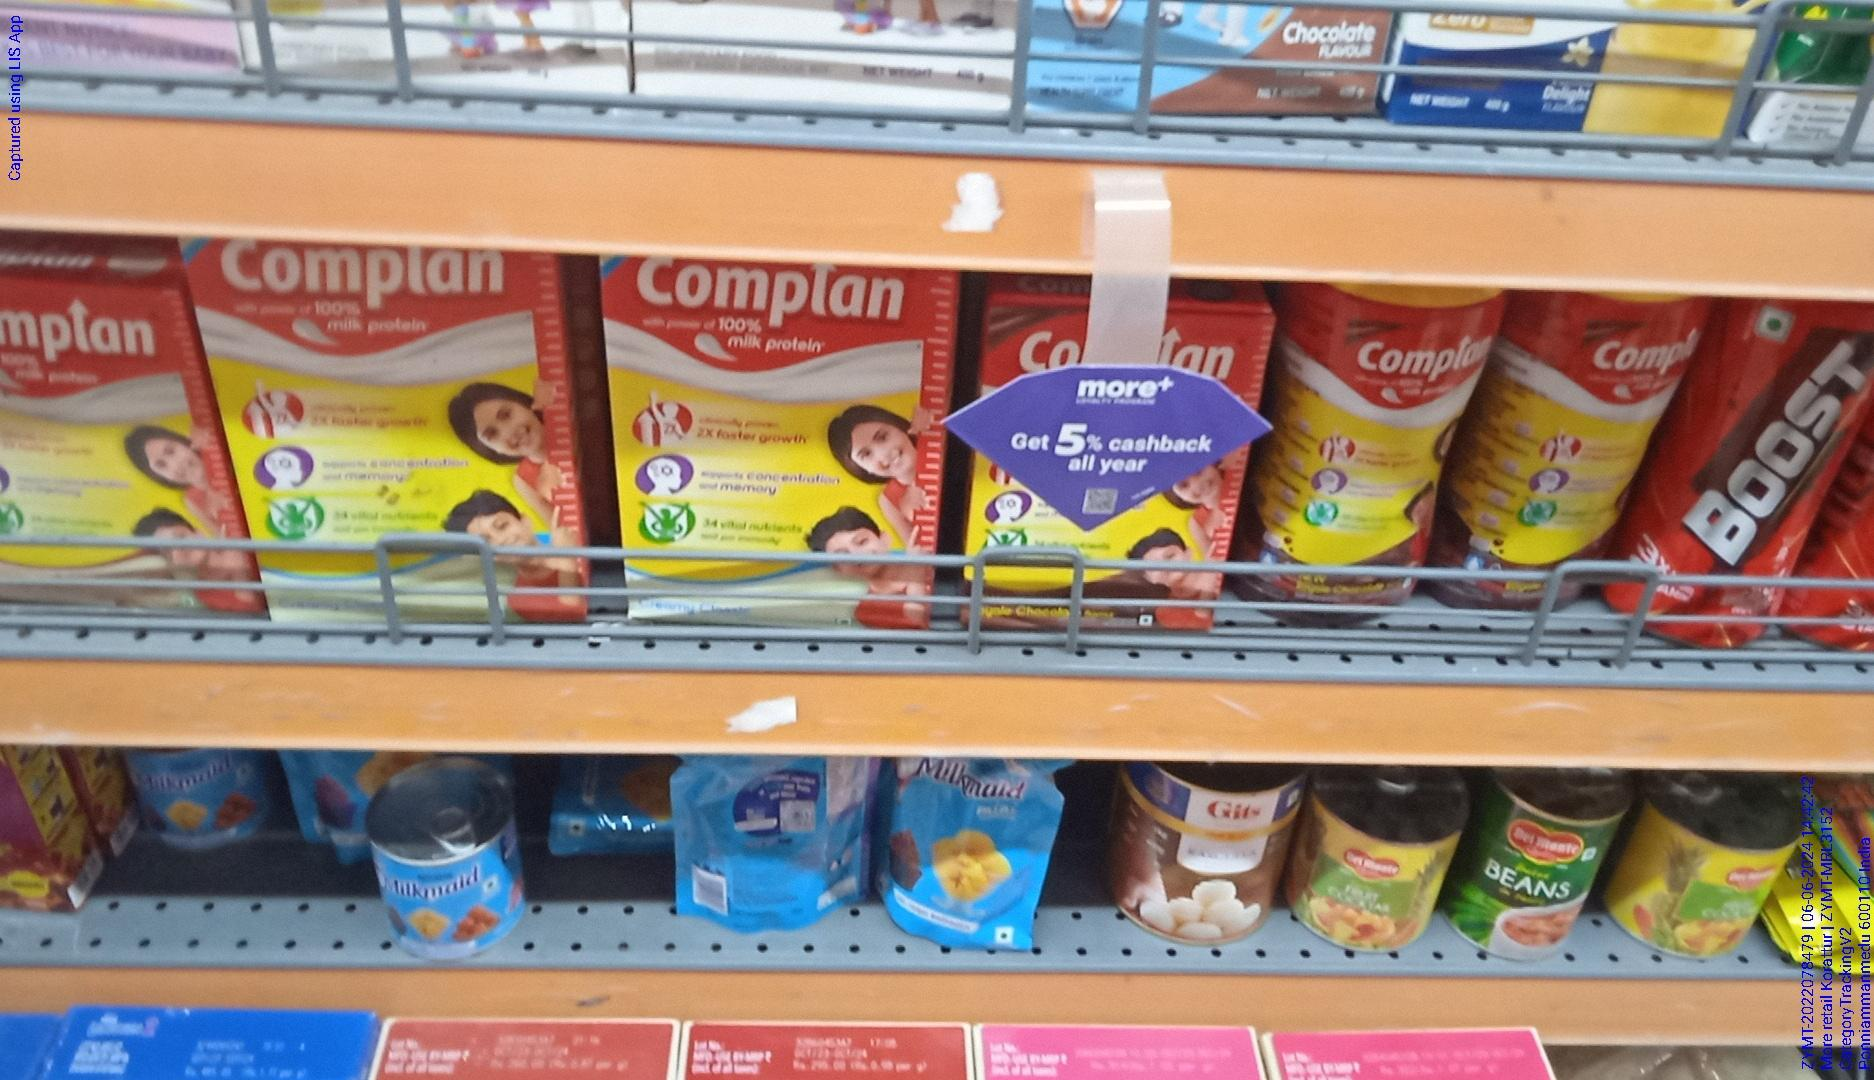COMPLAN_CHOCOLATE_500_GMS_JAR: (1483, 281, 1677, 628), (1277, 286, 1465, 628)
COMPLAN_CREAMY_CLASSIC_500_G_PACK: (201, 225, 580, 633), (617, 251, 952, 627)
